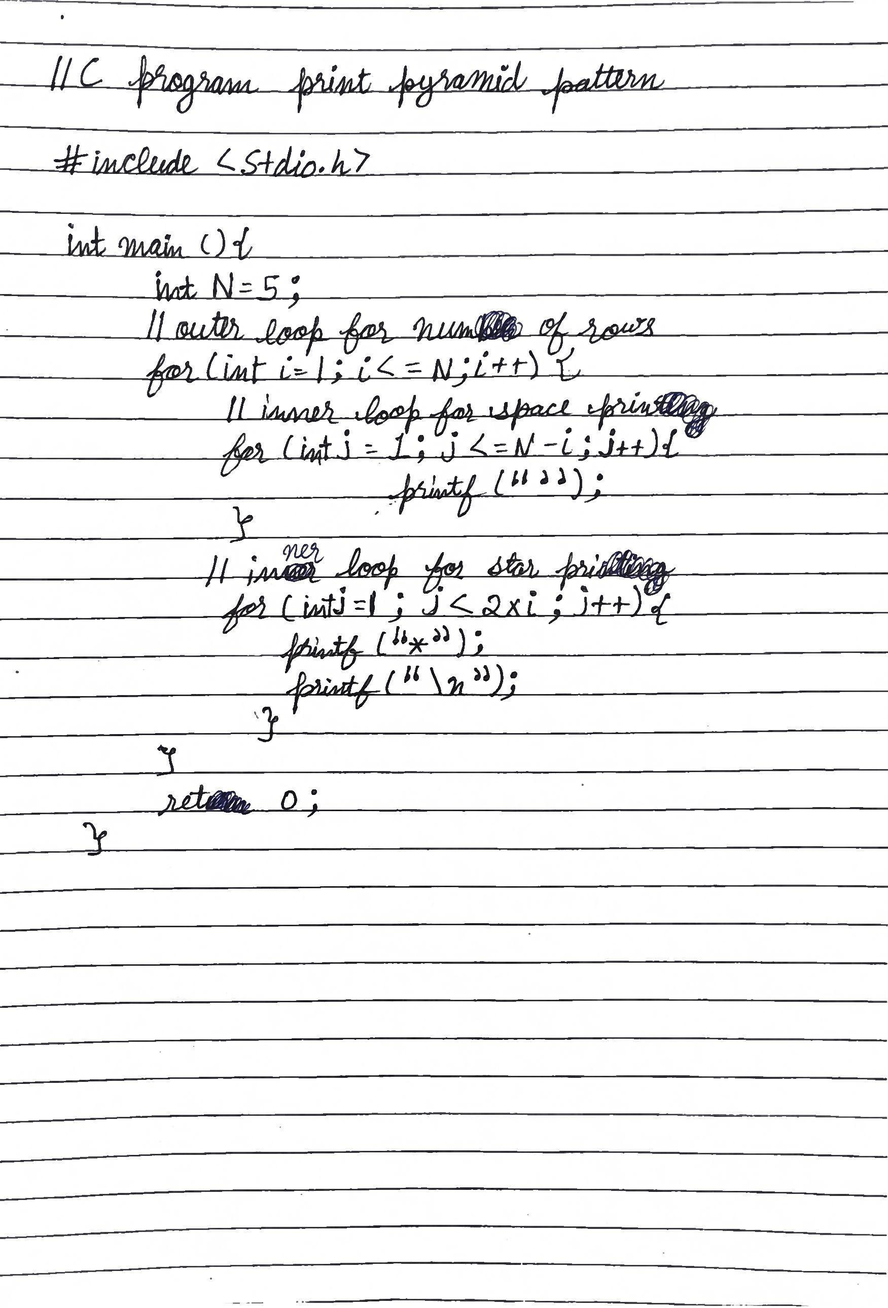cuttings: (597, 549, 677, 597), (654, 388, 716, 440), (473, 311, 525, 344), (205, 790, 253, 815), (283, 561, 323, 584)
